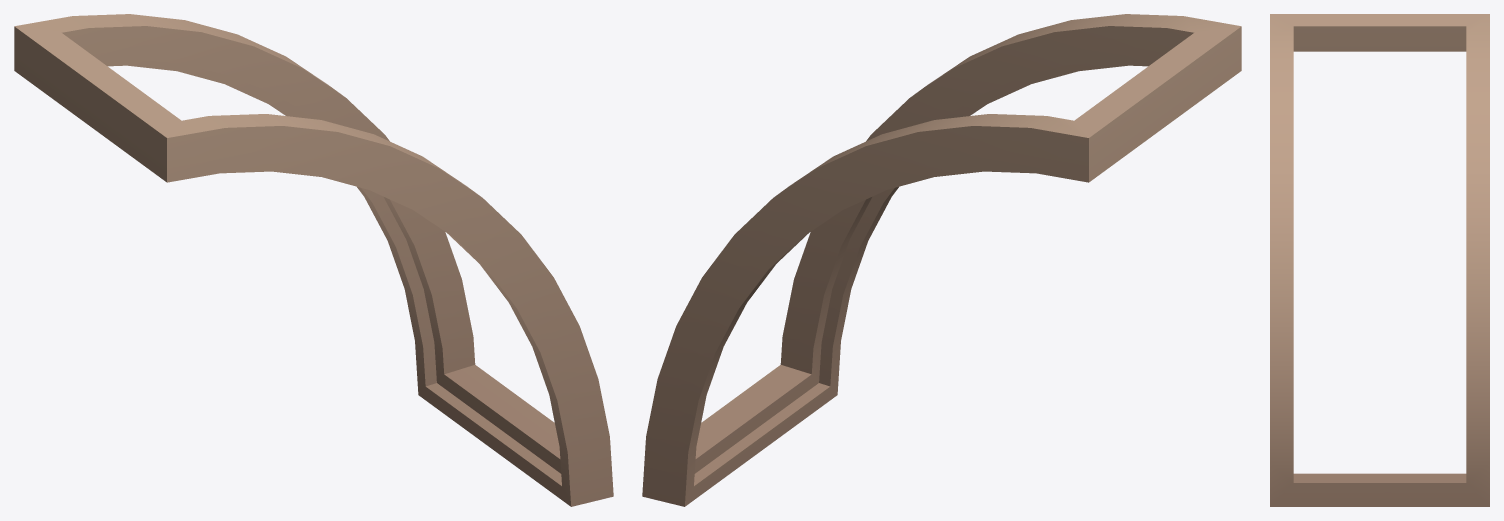
File: roof-curved-window.glb
3 views of the same model, side by side, from view 1: azimuth 30°, elevation 25°; view 2: azimuth 150°, elevation 25°; view 3: azimuth 270°, elevation 25° (orthographic). The views are drawn at different scales.
Parts seen in each view (by area): view 1: roof-curved-window; view 2: roof-curved-window; view 3: roof-curved-window.
Boxes of the visible parts, x1=… form: roof-curved-window: x1=14, y1=14, x2=613, y2=506; roof-curved-window: x1=642, y1=14, x2=1241, y2=506; roof-curved-window: x1=1270, y1=14, x2=1489, y2=506.
Size of the model in its own units: 1.58 by 1.57 by 0.9333.
